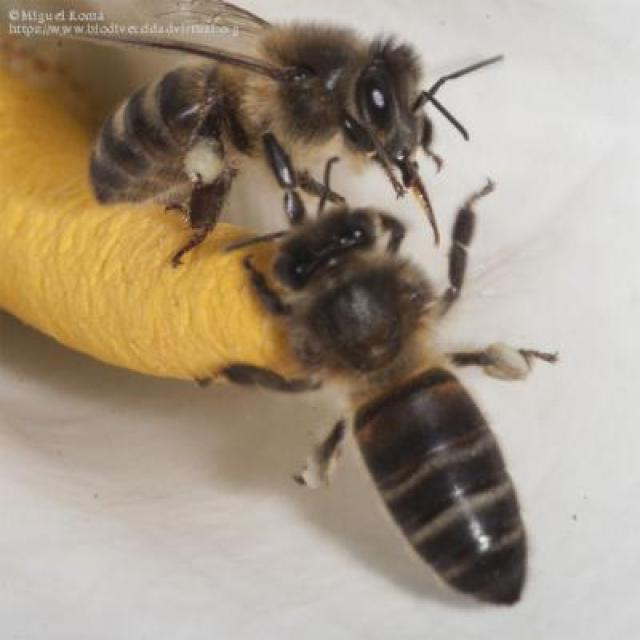antennae: (417, 43, 503, 110), (412, 88, 464, 141), (224, 227, 297, 253), (311, 160, 335, 212)
body: (272, 208, 528, 607), (88, 31, 432, 206)
insect: (192, 179, 562, 603), (20, 2, 503, 262)
legs: (422, 180, 502, 322), (152, 160, 235, 262), (434, 336, 558, 382), (198, 358, 318, 398), (253, 132, 301, 220), (299, 416, 350, 490), (287, 162, 351, 210), (244, 254, 290, 320), (378, 206, 412, 254)
mouthpart: (381, 137, 428, 185)
wings: (15, 15, 291, 84), (19, 0, 287, 38)
